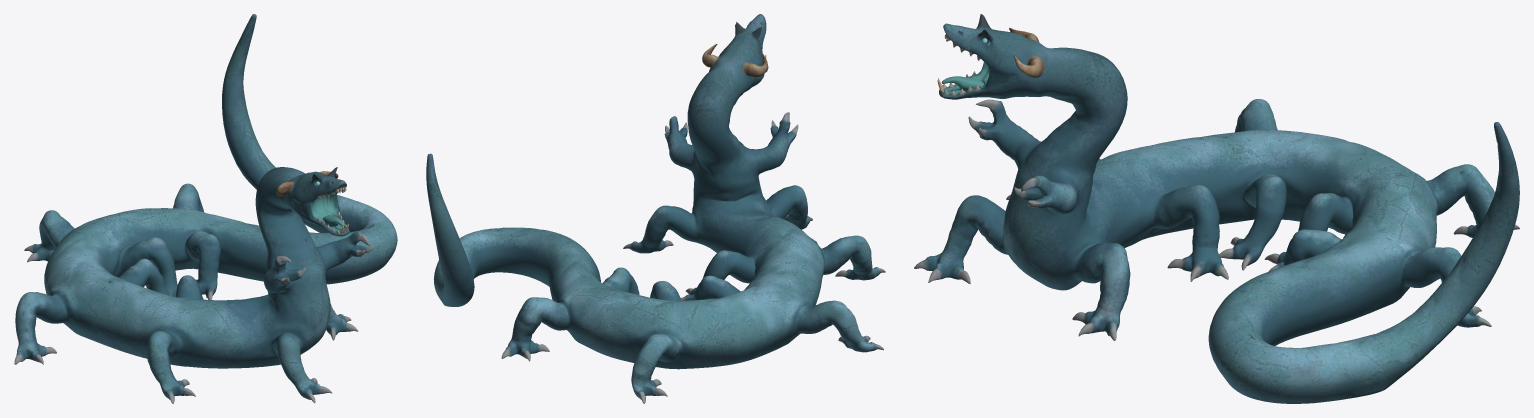
The model's file is MZ4250 - Behir 2.glb.
3 views of the same model, side by side, from view 1: azimuth 30°, elevation 25°; view 2: azimuth 150°, elevation 25°; view 3: azimuth 270°, elevation 25° (orthographic). The views are drawn at different scales.
Visible parts, largest first — view 1: default.001; view 2: default.001; view 3: default.001.
Part boxes in pixels (<box>): default.001: <box>14,14,397,403</box>; default.001: <box>426,14,885,403</box>; default.001: <box>914,14,1519,403</box>.
Bounding box in the file's own units: 1.85 × 0.9057 × 1.83.
Materials: 1 (1 with a texture image).
